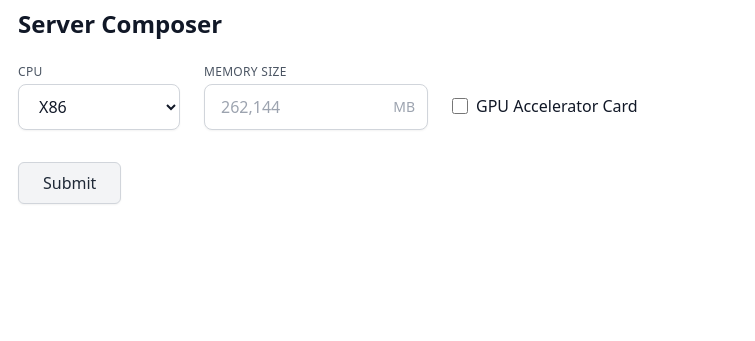
it: ServerComposer › shows "No Options" when nothing matches (Example 1)
Select "Power" in the dropdown labelled "CPU" at (99, 107), box [18, 84, 180, 130]
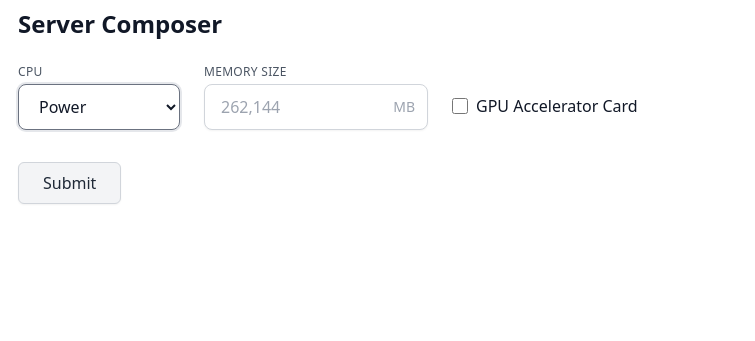
Type "1,024" into the field labelled "Memory Size" at (293, 107), box [205, 85, 381, 129]
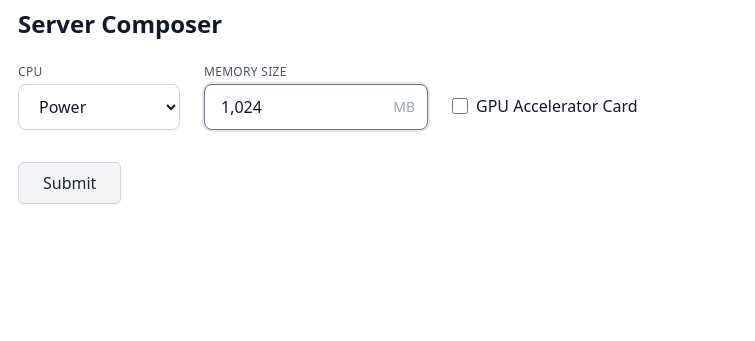
Click the button "Submit" at (70, 183), box [18, 162, 121, 204]
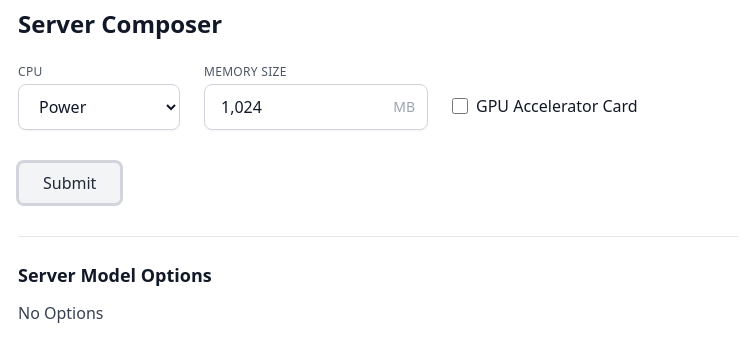
Check: the text "No Options" is shown, box [18, 302, 104, 324]
